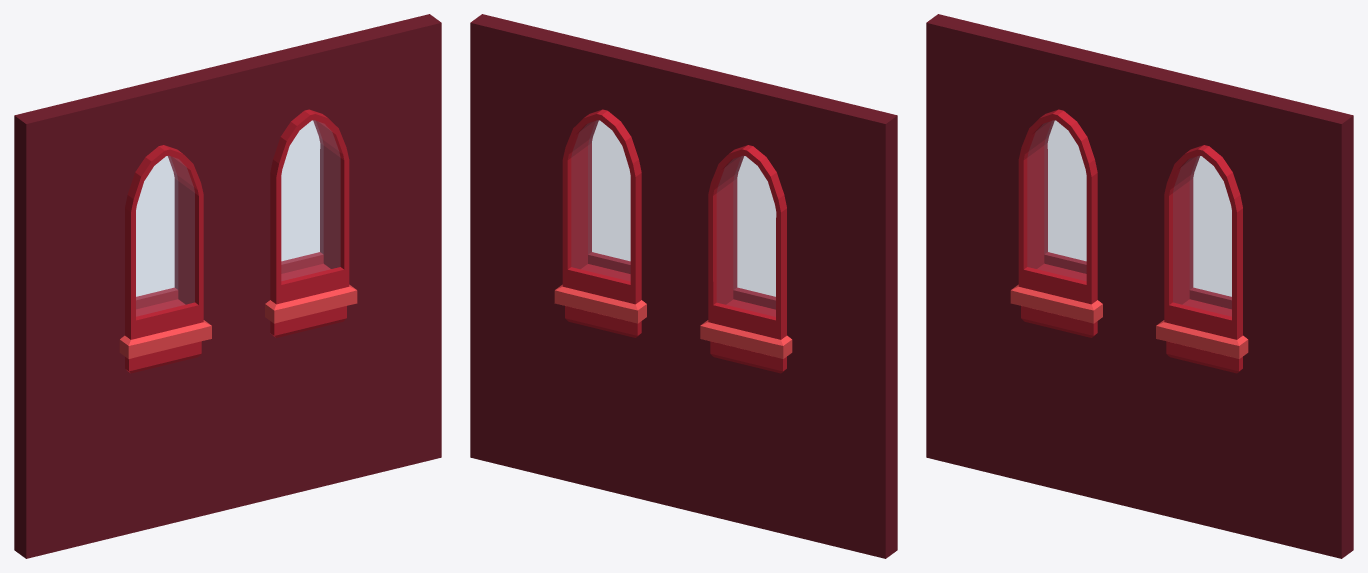
Rendered from Wall8.fbx.
3 renders of one model, left to right at view 1: azimuth 30°, elevation 25°; view 2: azimuth 150°, elevation 25°; view 3: azimuth 330°, elevation 25°, orthographic.
Parts seen in each view (by area): view 1: wall_with2Window_001_grp; view 2: wall_with2Window_001_grp; view 3: wall_with2Window_001_grp.
Boxes of the visible parts, x1,y1,x2,y2 form: wall_with2Window_001_grp: [14, 14, 441, 558]; wall_with2Window_001_grp: [470, 14, 897, 558]; wall_with2Window_001_grp: [926, 14, 1353, 558].
Bounding box in the file's own units: 400 × 400 × 50.
